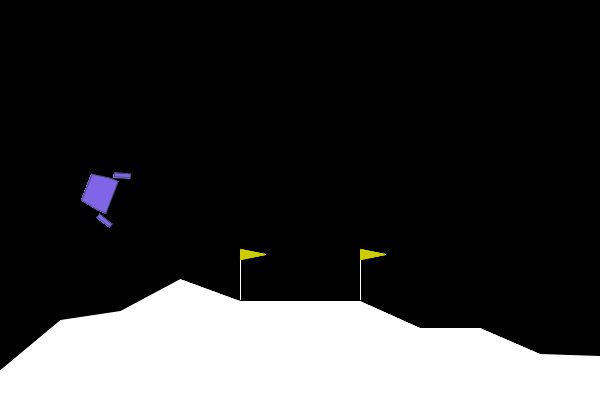lander: (73, 159, 133, 230)
